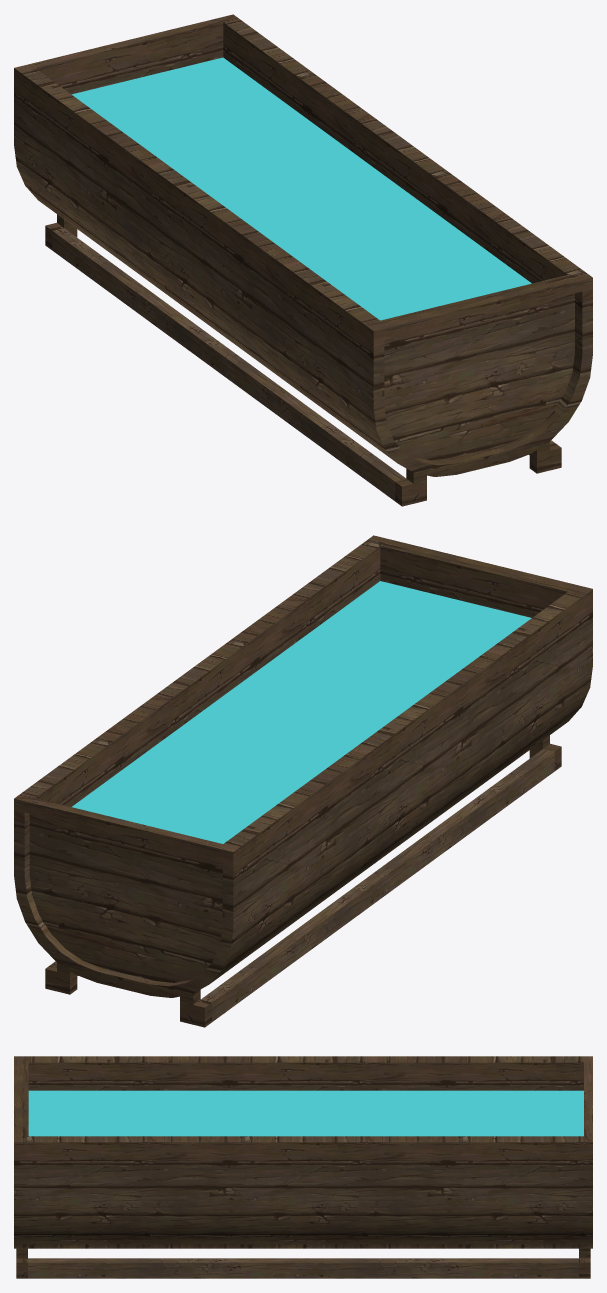
The model's file is BebedouroOvelhas.fbx.
The picture shows the model from 3 angles, top to bottom: view 1: azimuth 30°, elevation 25°; view 2: azimuth 150°, elevation 25°; view 3: azimuth 270°, elevation 25°; orthographic projection. The views are drawn at different scales.
Parts seen in each view (by area): view 1: Bebedouro Ovelhas, Water; view 2: Bebedouro Ovelhas, Water; view 3: Bebedouro Ovelhas, Water.
Boxes of the visible parts, box(x1,y1,x2,y2) form: Bebedouro Ovelhas: box(14, 14, 592, 506); Water: box(71, 57, 531, 320); Bebedouro Ovelhas: box(14, 535, 592, 1027); Water: box(72, 581, 531, 843); Bebedouro Ovelhas: box(14, 1056, 592, 1278); Water: box(28, 1090, 583, 1136).
Size of the model in its own units: 183 by 147 by 521.
